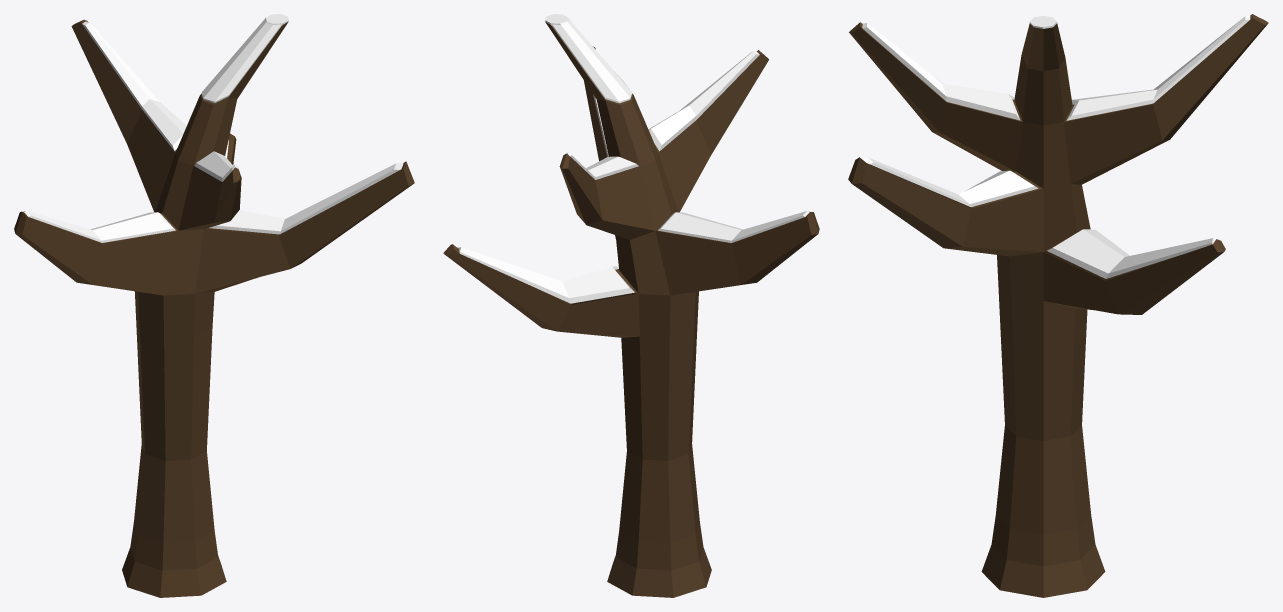
The model's file is vr_trees_now.glb.
3 renders of one model, left to right at view 1: azimuth 30°, elevation 25°; view 2: azimuth 150°, elevation 25°; view 3: azimuth 270°, elevation 25°, orthographic. The views are drawn at different scales.
Visible parts, largest first — view 1: Object_3, Object_2; view 2: Object_3, Object_2; view 3: Object_3, Object_2.
Part boxes in pixels (x1,y1,x2,y2): Object_3: (14,19,414,597); Object_2: (23,14,403,242); Object_3: (443,22,819,597); Object_2: (457,14,810,303); Object_3: (848,14,1268,597); Object_2: (862,15,1250,278).
Size of the model in its own units: 3.97 by 6.35 by 3.98.
